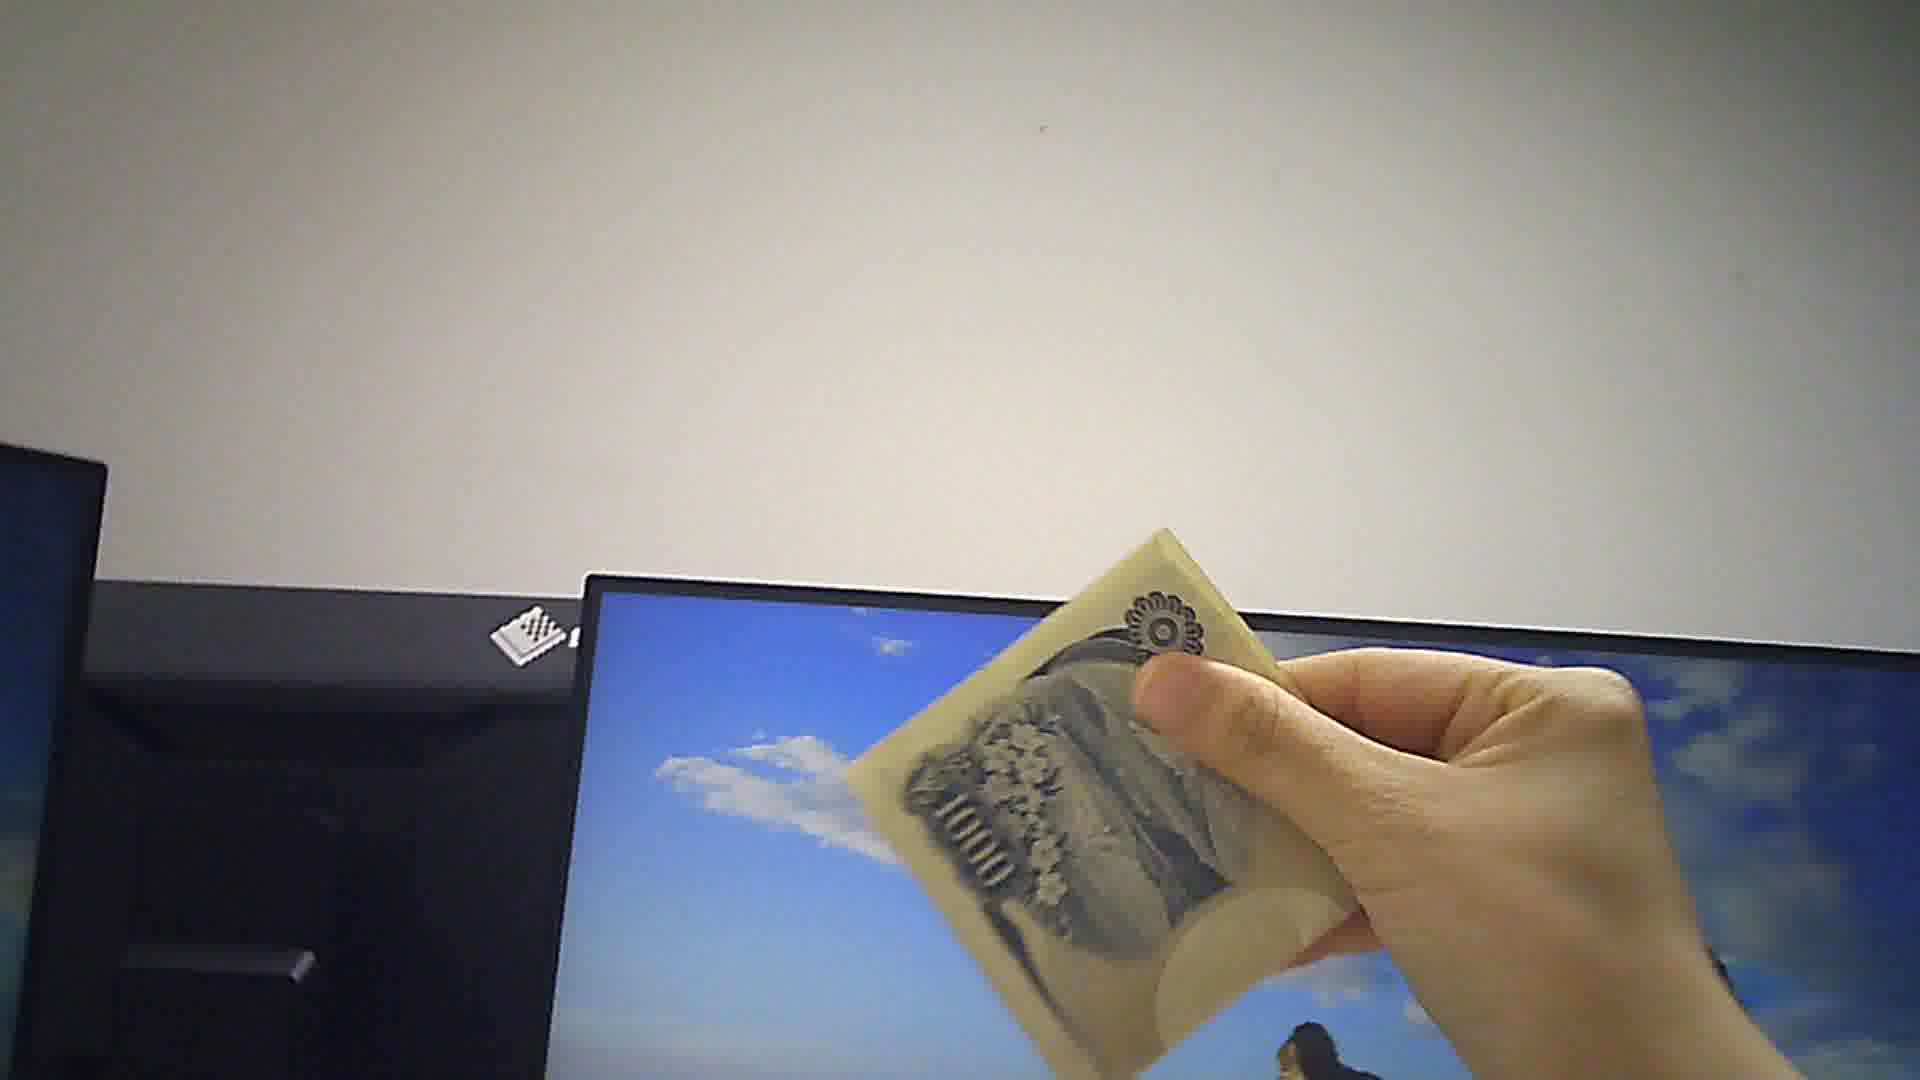1,000 Yen: (835, 527, 1367, 1079)
